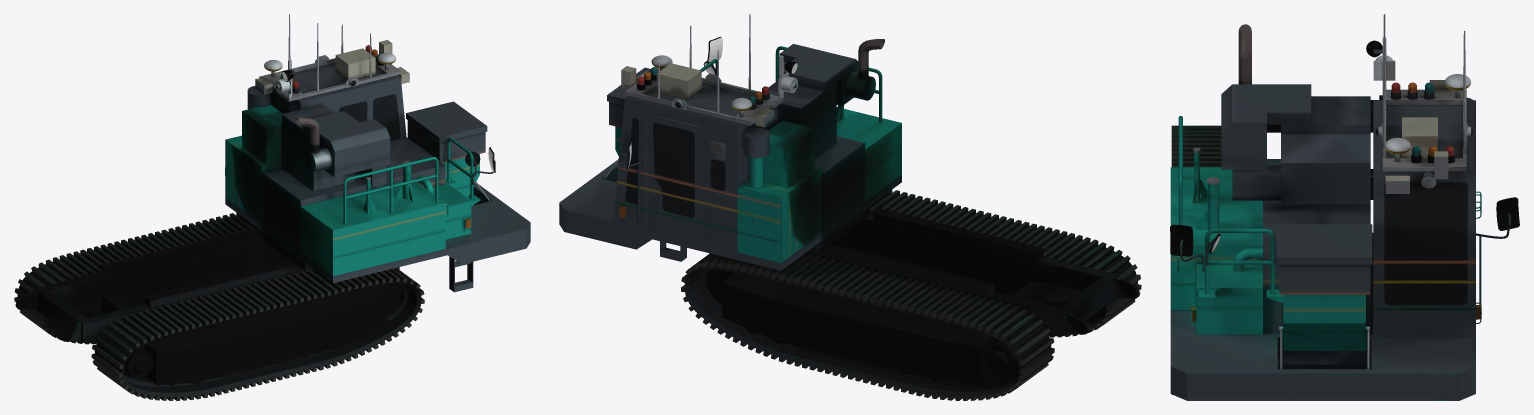
The model's file is ic120-body.dae.
The picture shows the model from 3 angles, left to right: view 1: azimuth 30°, elevation 25°; view 2: azimuth 150°, elevation 25°; view 3: azimuth 270°, elevation 25°; orthographic projection. The views are drawn at different scales.
Visible parts, largest first — view 1: BAKE_body; view 2: BAKE_body; view 3: BAKE_body.
Boxes of the visible parts, x1,y1,x2,y2 form: BAKE_body: (14,14,530,400); BAKE_body: (559,14,1141,400); BAKE_body: (1170,14,1519,400).
Bounding box in the file's own units: 6.56 × 3.15 × 3.87.
Materials: 3 (3 with a texture image).
